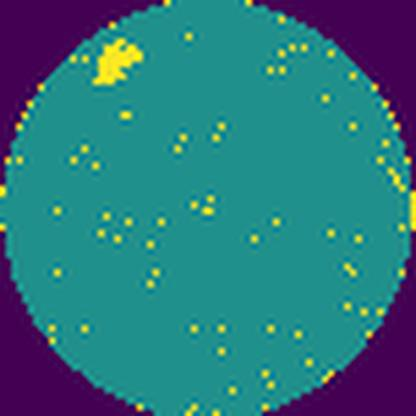Loc: (88, 35, 146, 86)
